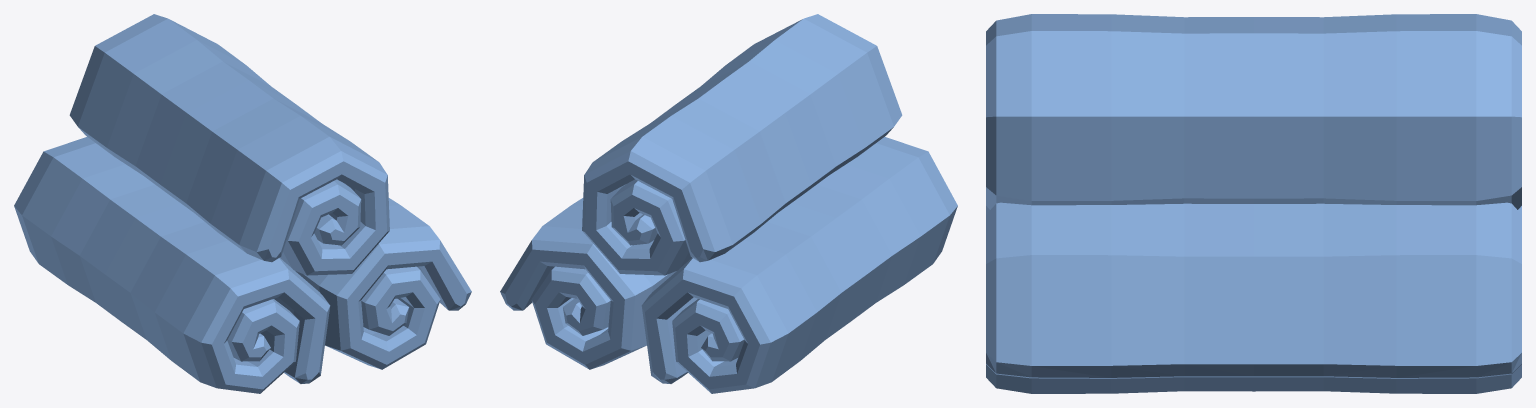
File: 513 Towel.obj
The picture shows the model from 3 angles, left to right: view 1: azimuth 30°, elevation 25°; view 2: azimuth 150°, elevation 25°; view 3: azimuth 270°, elevation 25°; orthographic projection. The views are drawn at different scales.
Parts seen in each view (by area): view 1: Towel; view 2: Towel; view 3: Towel.
Boxes of the visible parts, bbox=[...] form: Towel: bbox=[14, 14, 471, 393]; Towel: bbox=[500, 14, 957, 393]; Towel: bbox=[986, 14, 1521, 393].
Bounding box in the file's own units: 64.04 × 51.9 × 76.92.
1 material, 1 textured.
